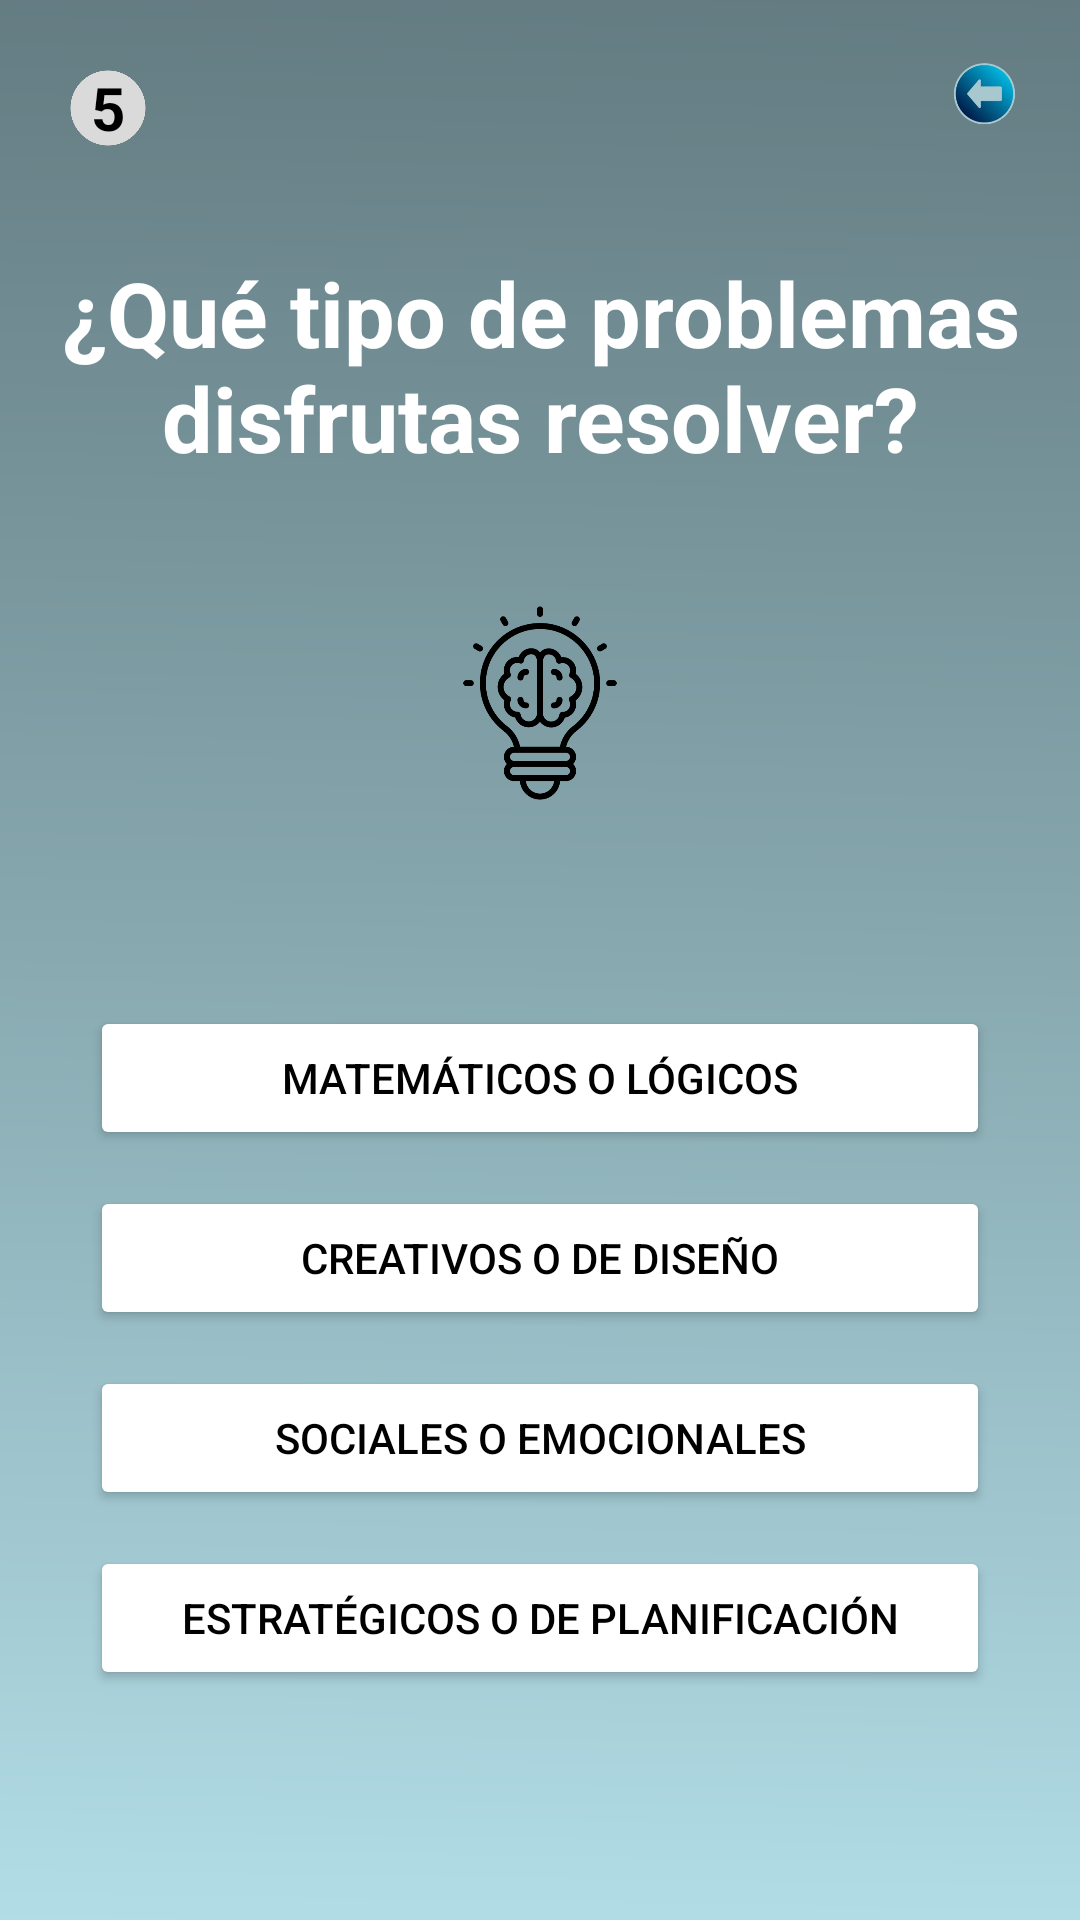

Icons on this 1080px×1920px Android screen, each with its box as [x1,y1,x2,y2]:
idea: [463,606,617,800]
retroceso: [954,63,1015,124]
